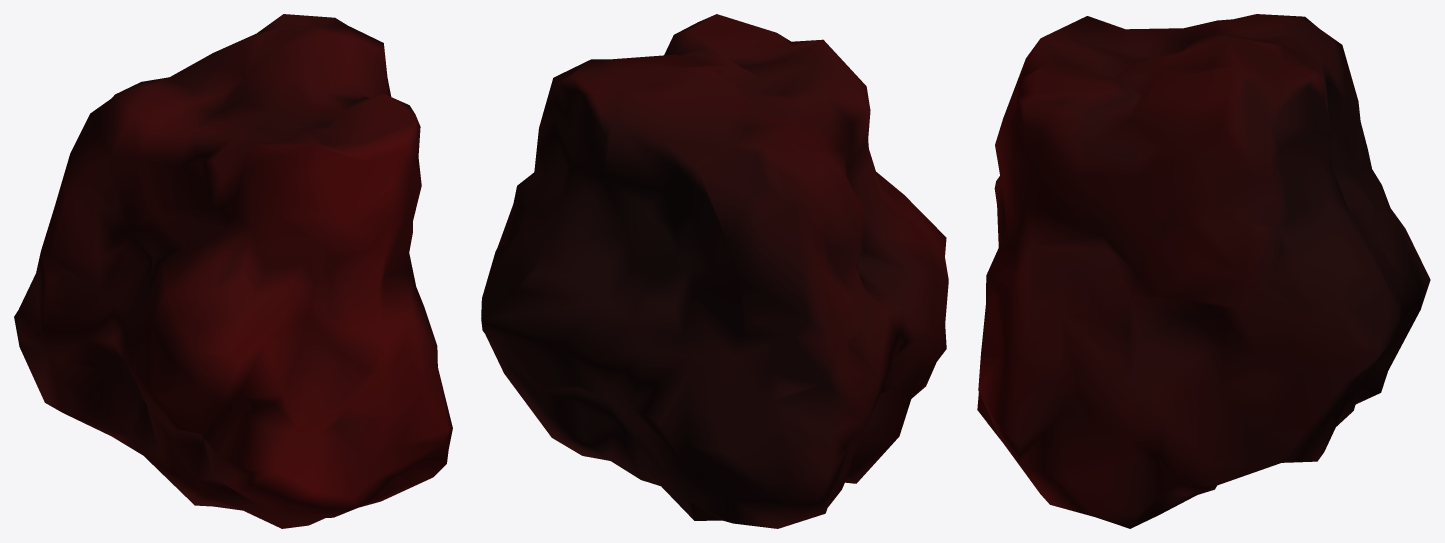
The model's file is geology-rocks-meteoritelarge_v1.fbx.
The picture shows the model from 3 angles, left to right: view 1: azimuth 30°, elevation 25°; view 2: azimuth 150°, elevation 25°; view 3: azimuth 270°, elevation 25°; orthographic projection. The views are drawn at different scales.
Parts seen in each view (by area): view 1: MeteoriteLarge_v1; view 2: MeteoriteLarge_v1; view 3: MeteoriteLarge_v1.
Part boxes in pixels (left/top/right/bottom): MeteoriteLarge_v1: left=14, top=14, right=452, bottom=528; MeteoriteLarge_v1: left=481, top=14, right=948, bottom=528; MeteoriteLarge_v1: left=977, top=14, right=1430, bottom=528.
Bounding box in the file's own units: 4.34 × 4.94 × 4.42.
